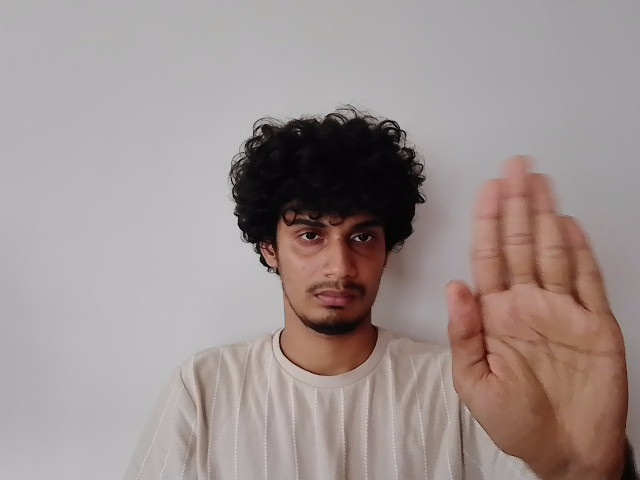hello: (446, 152, 640, 464)
